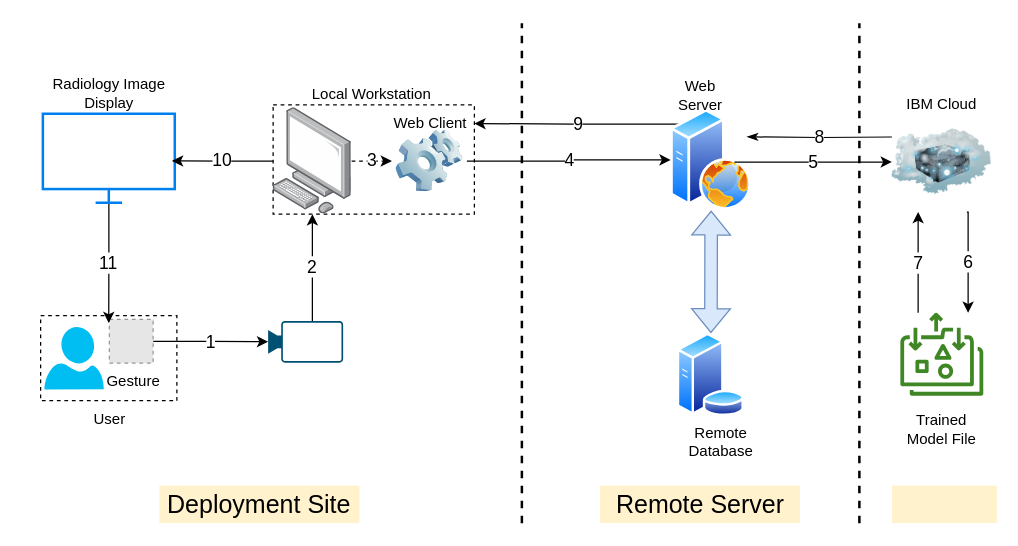
The diagram is 1018 pixels wide and 546 high, and some of its shapes have lost their labels. Grey dashed boxes stand in for pictures. Each missing label, with the centre of its shape:
Camera: the point at 305,341
Cloud: the point at 943,503
